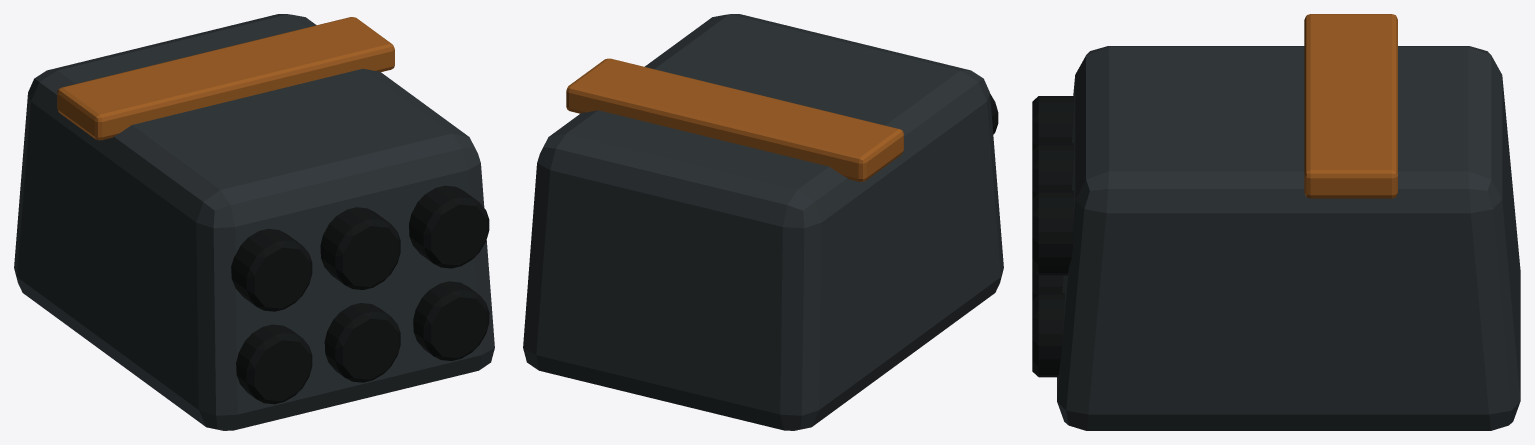
The model's file is weapon_missile.glb.
3 renders of one model, left to right at view 1: azimuth 30°, elevation 25°; view 2: azimuth 150°, elevation 25°; view 3: azimuth 270°, elevation 25°, orthographic. The views are drawn at different scales.
Parts seen in each view (by area): view 1: pod, stripe, tube_01, tube_21, tube_11, tube_00, tube_20, tube_10; view 2: pod, stripe; view 3: pod, stripe, tube_21, tube_20, tube_01, tube_11, tube_10.
Part boxes in pixels (box(x1,y1,x2,y2)): pod: box(14, 14, 494, 430); stripe: box(57, 17, 394, 140); tube_01: box(231, 229, 312, 311); tube_21: box(409, 185, 489, 268); tube_11: box(320, 207, 400, 289); tube_00: box(236, 324, 312, 404); tube_20: box(413, 281, 489, 360); tube_10: box(324, 303, 400, 382); pod: box(523, 14, 1003, 430); stripe: box(566, 58, 903, 181); pod: box(1057, 46, 1520, 430); stripe: box(1304, 14, 1397, 198); tube_21: box(1032, 191, 1074, 275); tube_20: box(1032, 293, 1064, 377); tube_01: box(1032, 96, 1074, 148); tube_11: box(1032, 143, 1074, 196); tube_10: box(1032, 270, 1063, 298).
Size of the model in its own units: 1.22 by 0.96 by 1.56.
